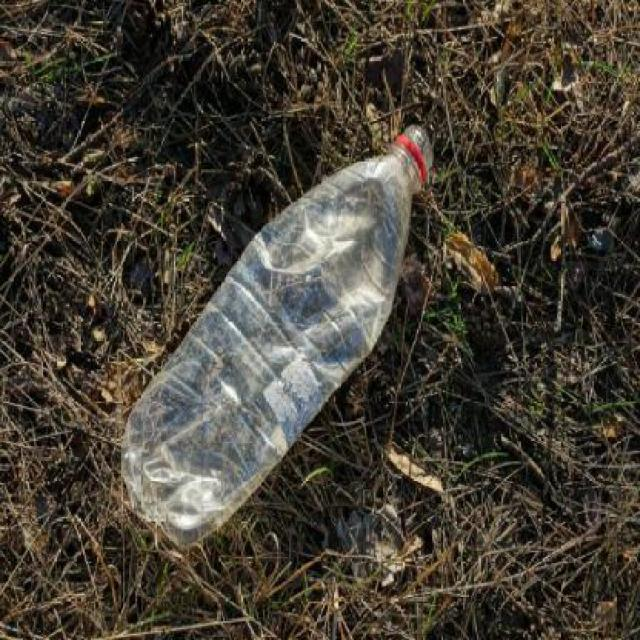bottle: (116, 121, 413, 548)
